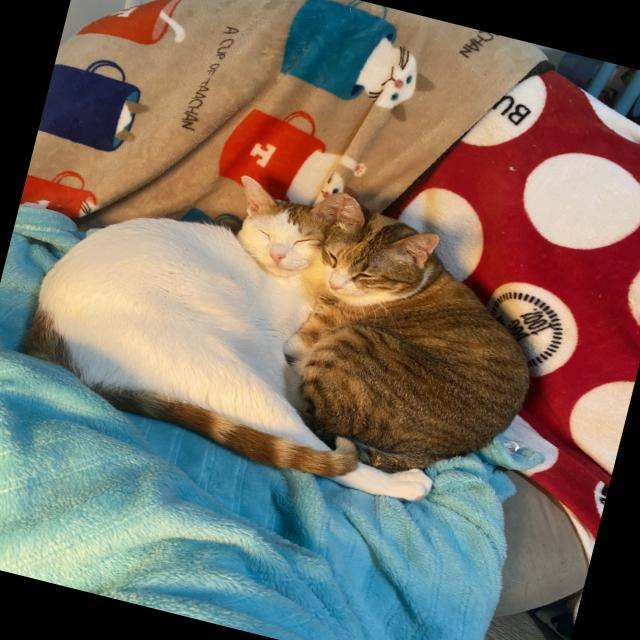cat1: (1, 128, 502, 515)
cat2: (272, 187, 571, 503)
